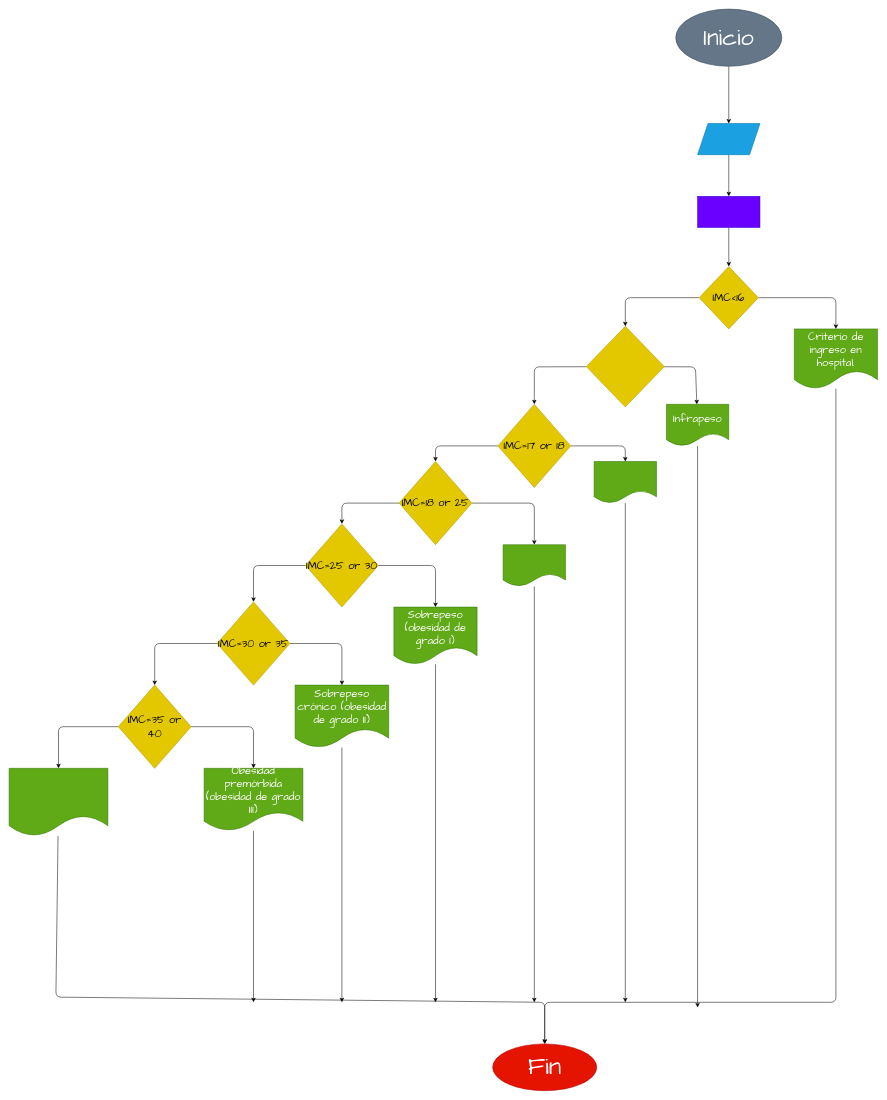
This 887x1100 diagram has some shape labels left out. Here are the shapes that lost their labels. From the top down, the box of each, then its label:
(697, 123, 760, 155): P,A
(697, 196, 760, 228): IMC=P/A*A
(586, 326, 664, 407): IMC=16 or 17
(594, 461, 656, 503): Bajo peso
(503, 544, 566, 586): Peso normal (saludable)
(9, 768, 108, 836): Obesidad mórbida (obesidad de grado IV)
